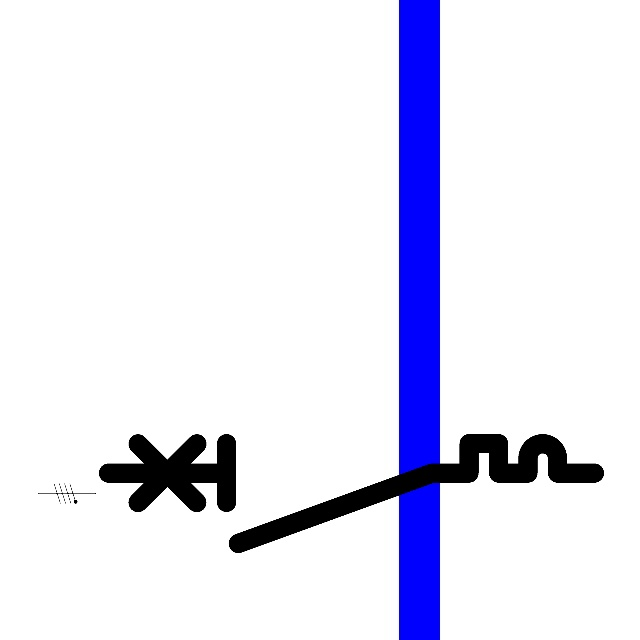interruptor_termomagnetico: (95, 431, 606, 556)
